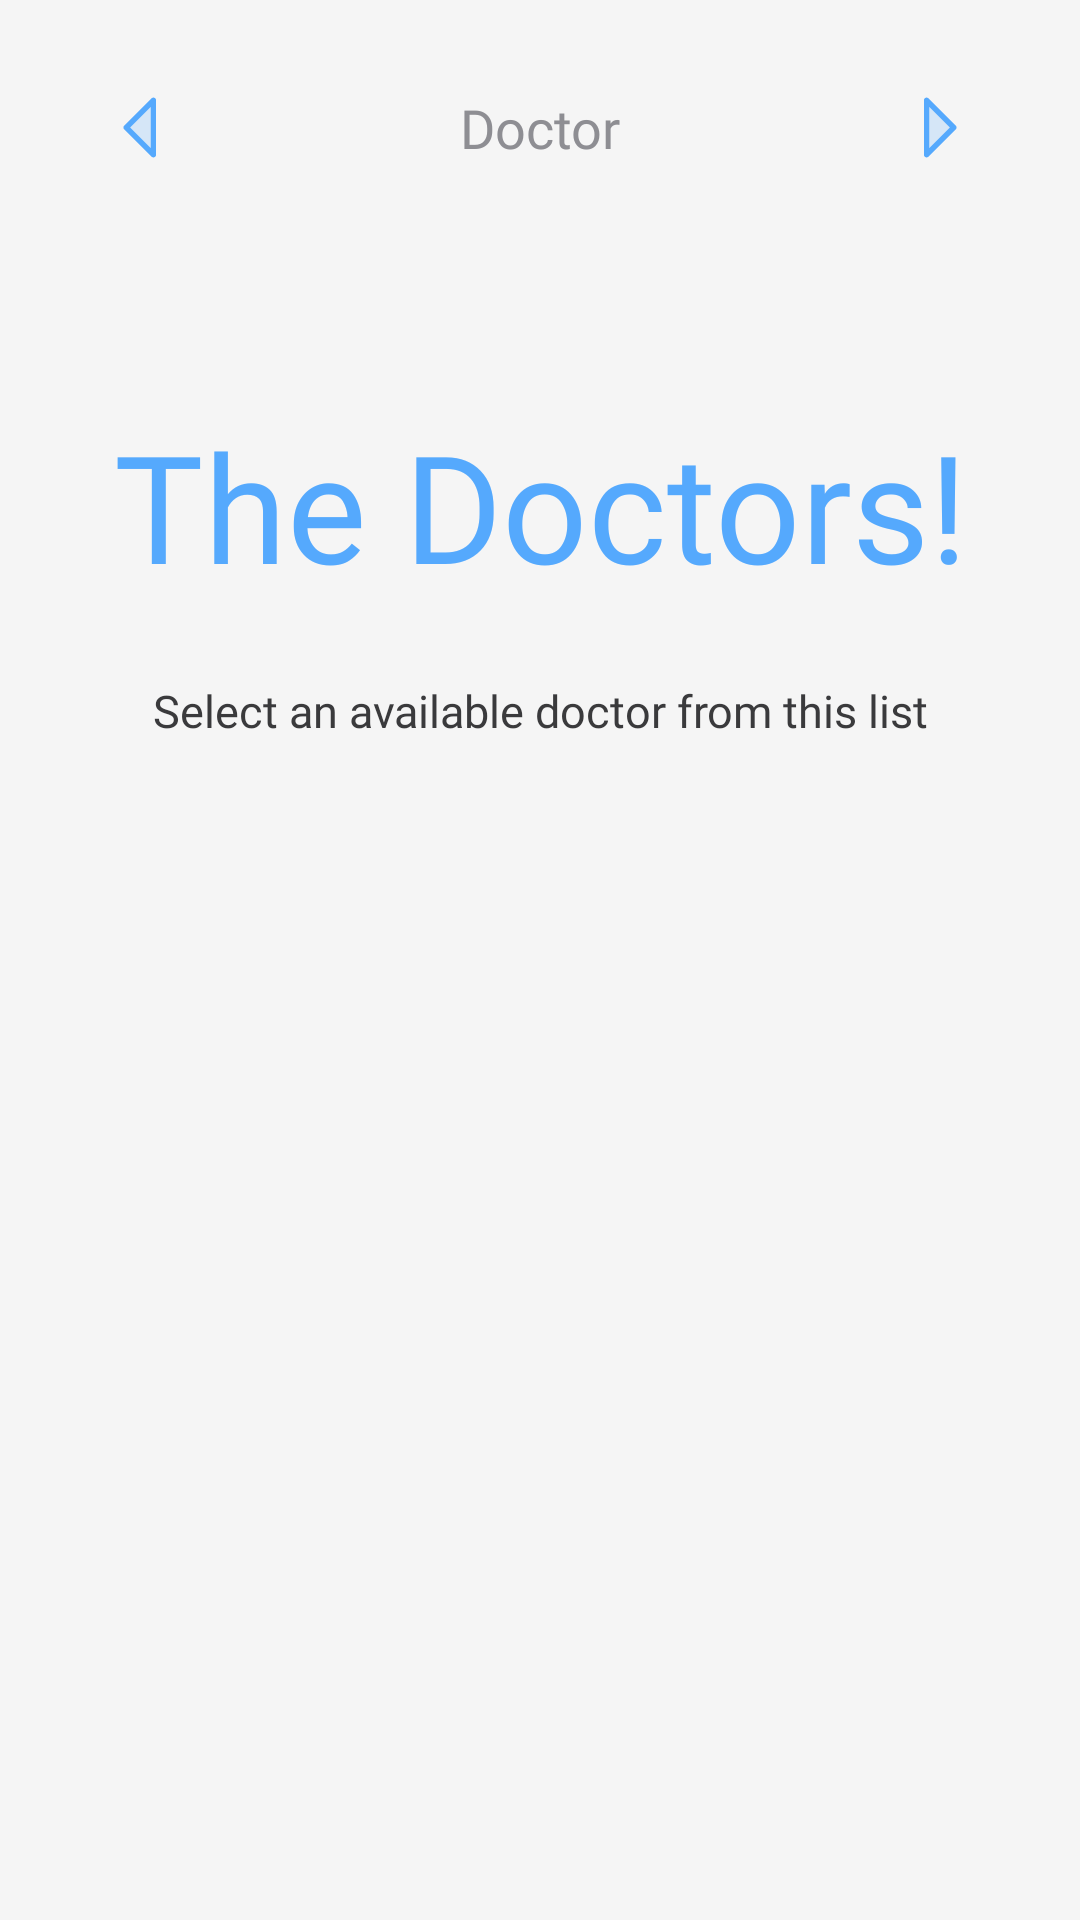

Point at icon controls on the screen. Image size 1080px x 1920px, points as (x,y).
arrow left: (139,127)
arrow right: (940,127)
